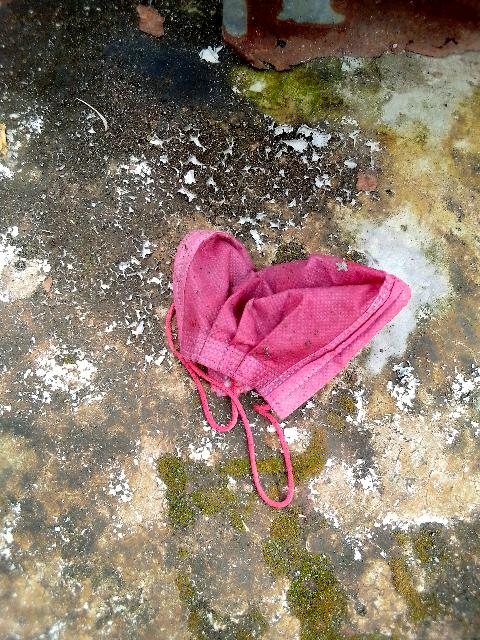mask: (168, 220, 393, 428)
